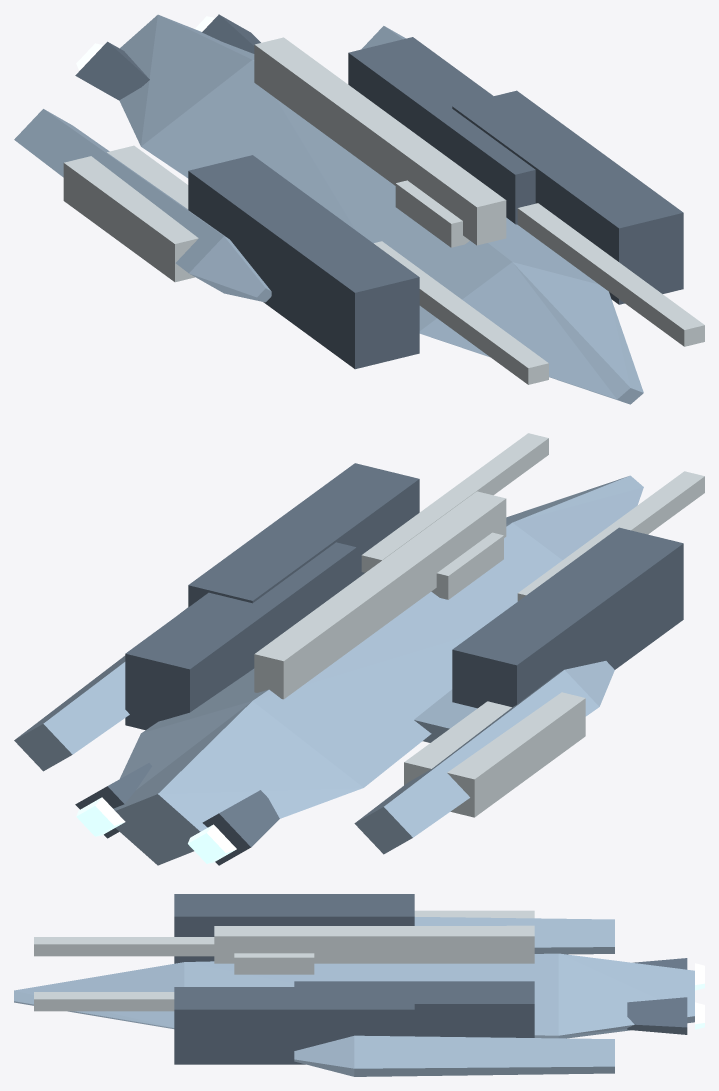
3 renders of one model, top to bottom at view 1: azimuth 30°, elevation 25°; view 2: azimuth 150°, elevation 25°; view 3: azimuth 270°, elevation 25°, orthographic. The views are drawn at different scales.
Bounding box in the file's own units: 3.28 × 1.15 × 6.62.
